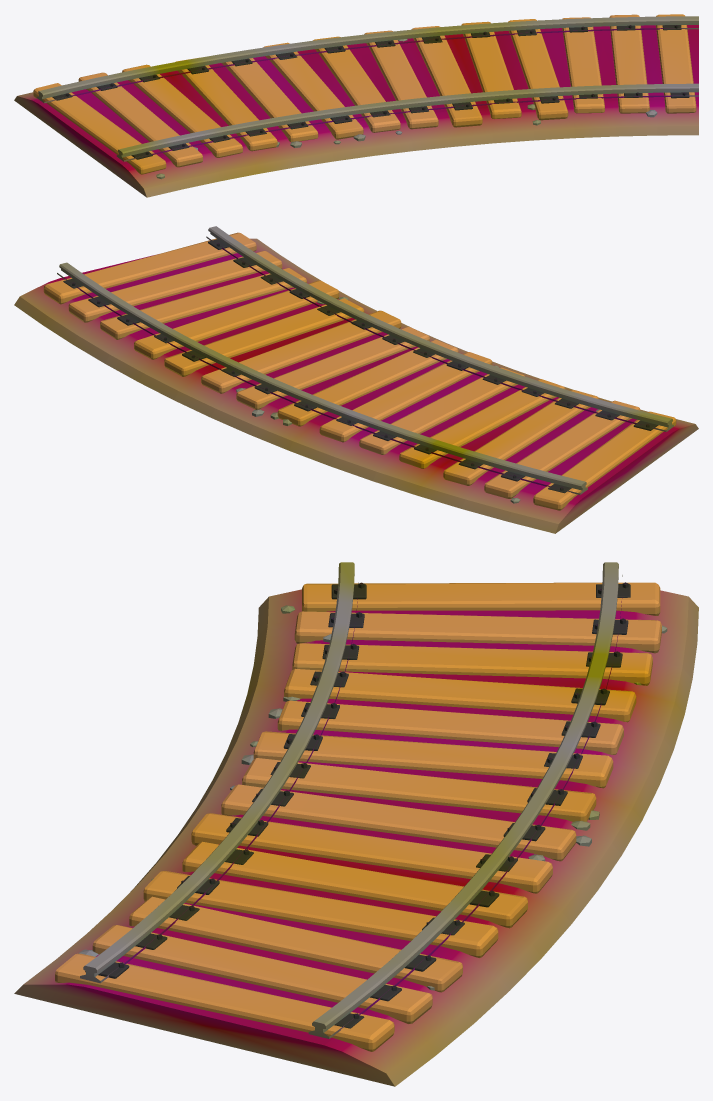
File: Track_Curve_R20_30_A.glb
3 renders of one model, top to bottom at view 1: azimuth 30°, elevation 25°; view 2: azimuth 150°, elevation 25°; view 3: azimuth 270°, elevation 25°, orthographic. The views are drawn at different scales.
Visible parts, largest first — view 1: Track_Curve_R20_30_A; view 2: Track_Curve_R20_30_A; view 3: Track_Curve_R20_30_A.
Part boxes in pixels (left/top/right/bottom): Track_Curve_R20_30_A: left=14, top=14, right=698, bottom=197; Track_Curve_R20_30_A: left=14, top=226, right=698, bottom=533; Track_Curve_R20_30_A: left=14, top=562, right=698, bottom=1086.
Size of the model in its own units: 11.07 by 0.49 by 6.69.
